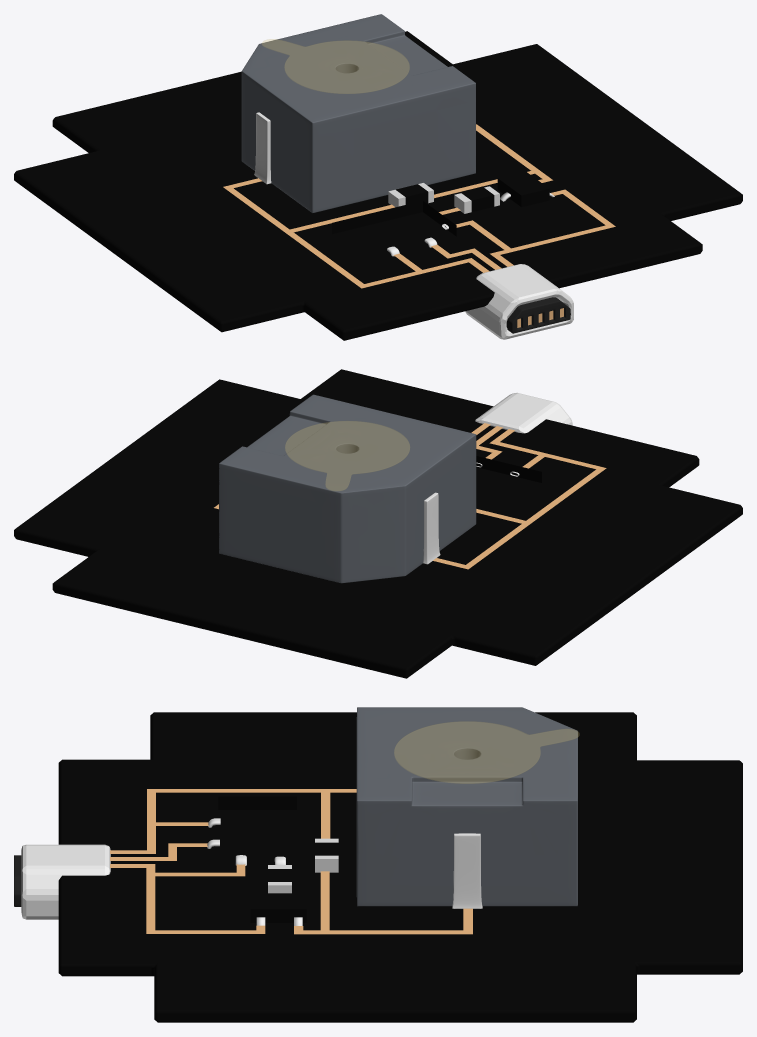
File: anim.Buzzer.glb
3 views of the same model, one above another, from view 1: azimuth 30°, elevation 25°; view 2: azimuth 150°, elevation 25°; view 3: azimuth 270°, elevation 25° (orthographic). The views are drawn at different scales.
Parts seen in each view (by area): view 1: Buzzer complete chip, Buzzer Complete cap; view 2: Buzzer complete chip, Buzzer Complete cap; view 3: Buzzer complete chip, Buzzer Complete cap.
Part boxes in pixels (left/top/right/bottom): Buzzer complete chip: left=14, top=31, right=742, bottom=340; Buzzer Complete cap: left=241, top=14, right=475, bottom=169; Buzzer complete chip: left=14, top=369, right=742, bottom=678; Buzzer Complete cap: left=219, top=394, right=476, bottom=539; Buzzer complete chip: left=14, top=712, right=742, bottom=1022; Buzzer Complete cap: left=356, top=707, right=579, bottom=856.
Bounding box in the file's own units: 0.0385 × 0.00887 × 0.0395.
